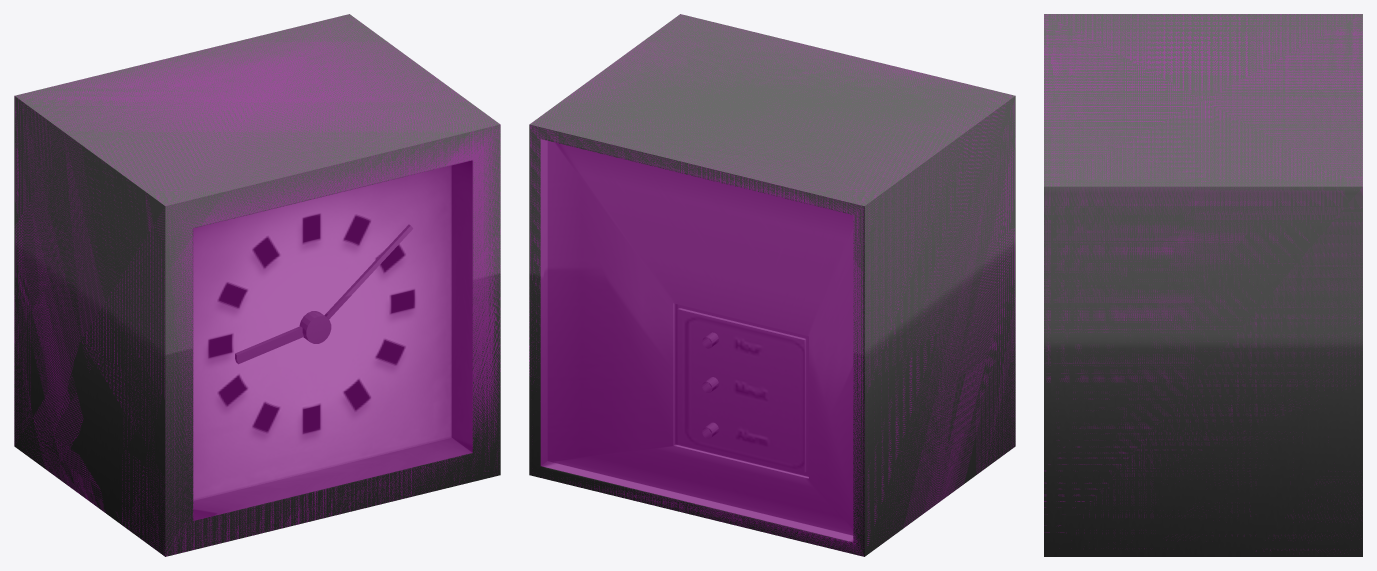
File: clock.fbx
3 renders of one model, left to right at view 1: azimuth 30°, elevation 25°; view 2: azimuth 150°, elevation 25°; view 3: azimuth 270°, elevation 25°, orthographic. The views are drawn at different scales.
Parts seen in each view (by area): view 1: clock, clock_boundingBox; view 2: clock, clock_boundingBox; view 3: clock, clock_boundingBox.
Boxes of the visible parts, box(x1,y1,x2,y2) form: clock: box(14, 14, 500, 556); clock_boundingBox: box(15, 18, 499, 555); clock: box(529, 14, 1015, 556); clock_boundingBox: box(529, 18, 1014, 555); clock: box(1044, 14, 1362, 556); clock_boundingBox: box(1044, 14, 1362, 501).
Bounding box in the file's own units: 0.1 × 0.1 × 0.078.
2 materials, 1 textured.
